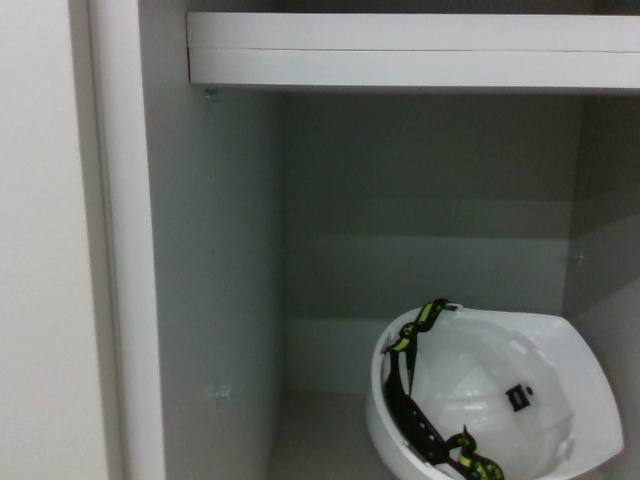helmet: (361, 293, 630, 480)
